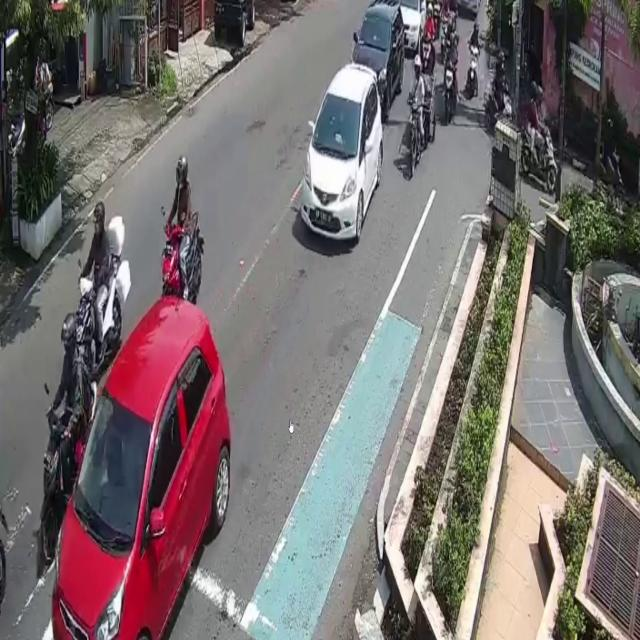car: (51, 290, 232, 639), (301, 61, 386, 250), (350, 0, 404, 119)
motorbike: (33, 378, 99, 559), (158, 212, 207, 308), (522, 122, 558, 192), (488, 82, 512, 140), (409, 98, 422, 176), (468, 44, 482, 112), (444, 60, 458, 124)
